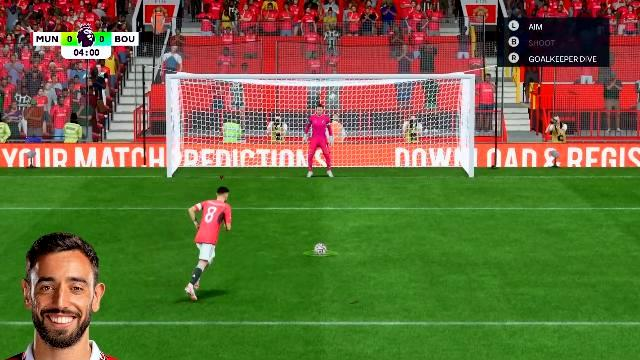bottom-left: (171, 130, 271, 178)
bottom-right: (364, 131, 468, 180)
center-down: (274, 130, 362, 178)
center-up: (273, 80, 365, 128)
circle: (304, 251, 336, 257)
football: (313, 242, 327, 252)
goalkeeper: (304, 103, 336, 181)
player: (180, 185, 234, 302)
top-left: (172, 80, 272, 128)
top-right: (366, 80, 468, 128)
